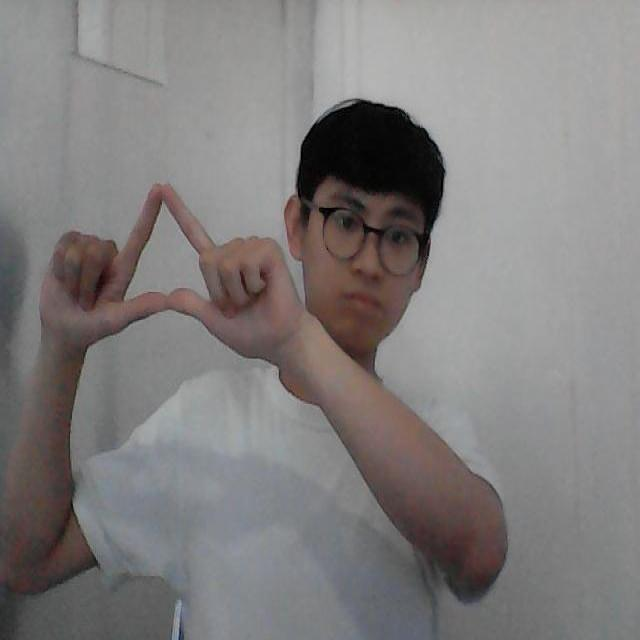A: (53, 172, 277, 352)
